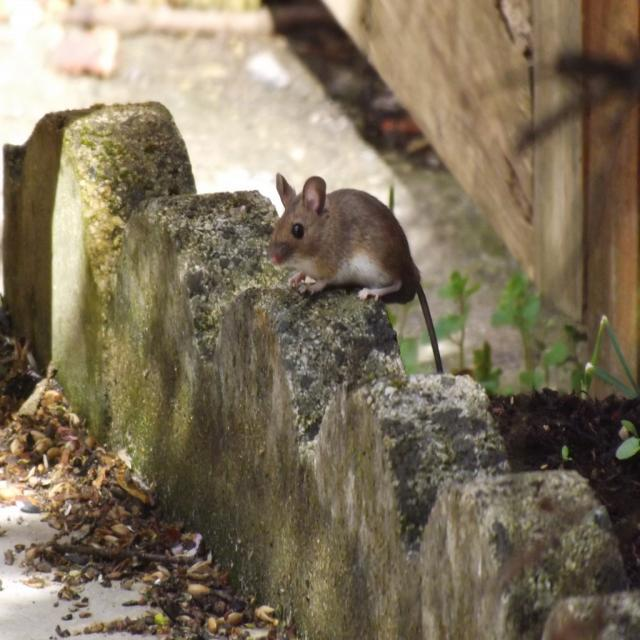rat: (260, 169, 445, 370)
